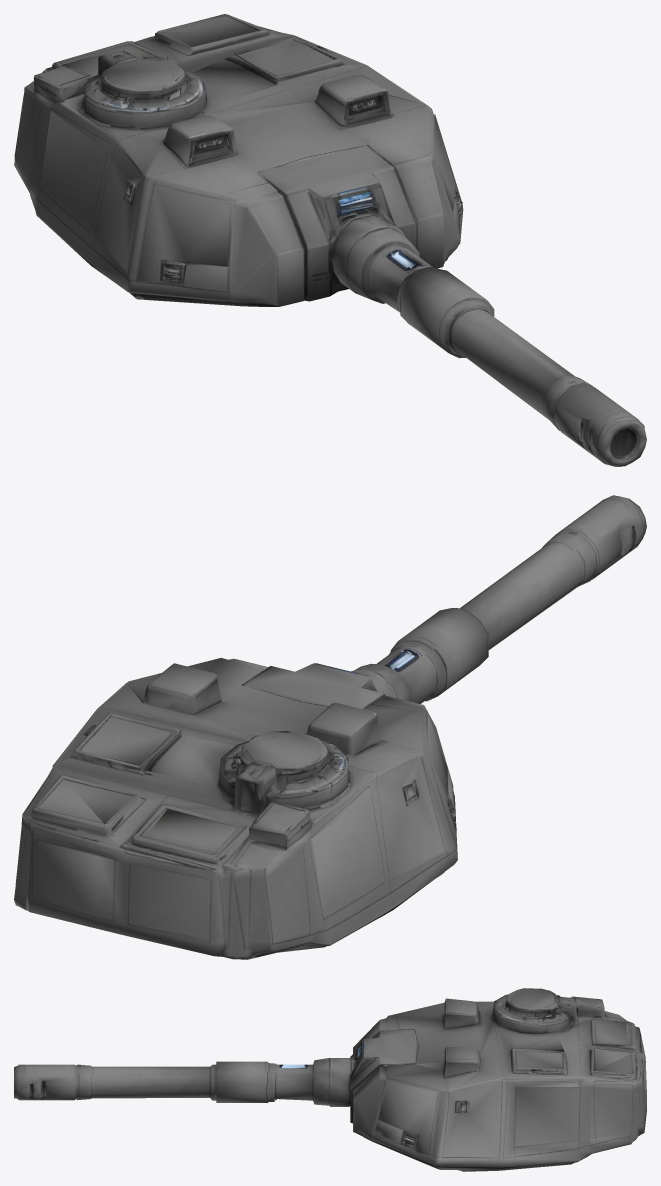
Rendered from selected.fbx.
The picture shows the model from 3 angles, top to bottom: view 1: azimuth 30°, elevation 25°; view 2: azimuth 150°, elevation 25°; view 3: azimuth 270°, elevation 25°; orthographic projection. The views are drawn at different scales.
Visible parts, largest first — view 1: TankTurret; view 2: TankTurret; view 3: TankTurret.
Part boxes in pixels (x1,y1,x2,y2): TankTurret: (14,14,646,466); TankTurret: (14,495,646,959); TankTurret: (14,988,646,1171).
Size of the model in its own units: 38.94 by 18.2 by 99.8.
Materials: 1 (1 with a texture image).
